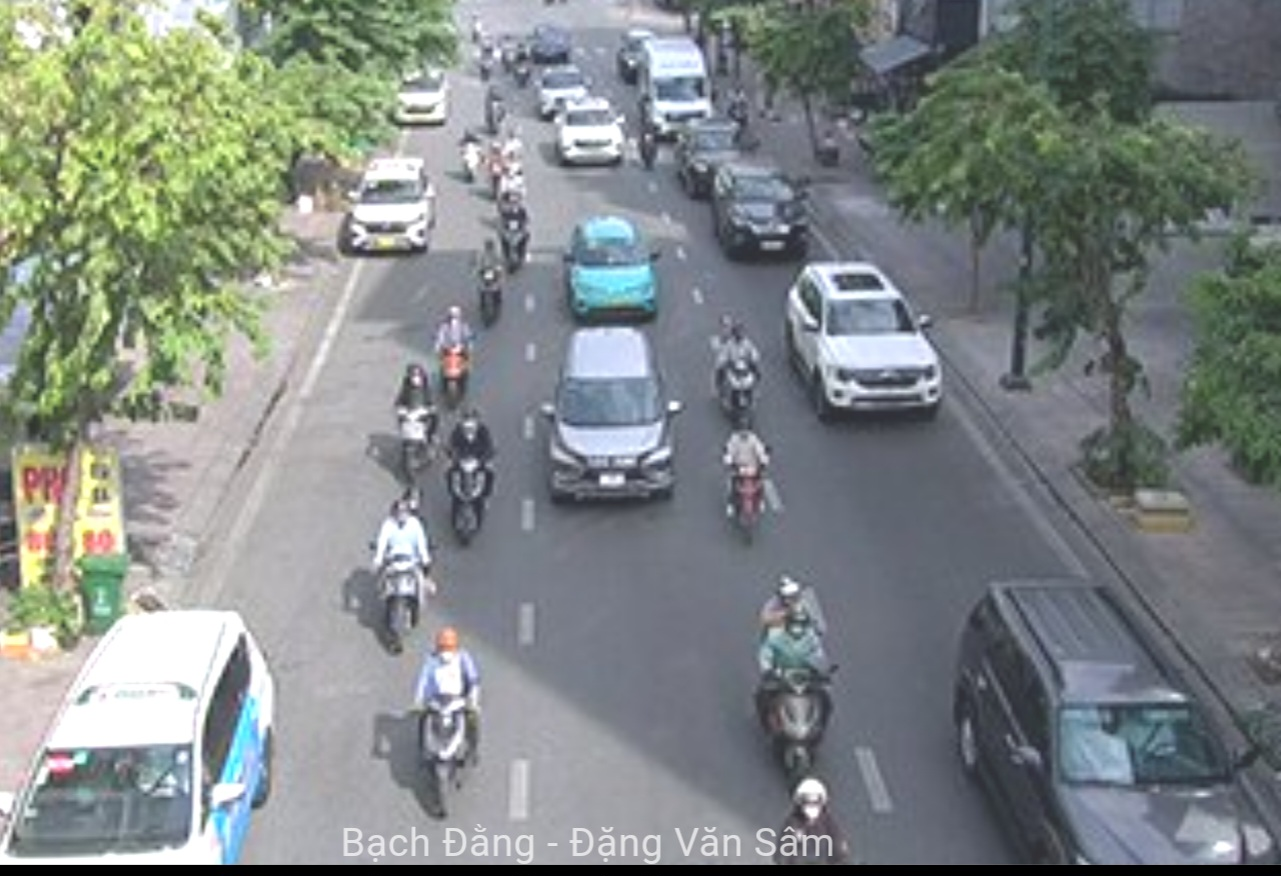car: (959, 582, 1275, 876), (9, 607, 280, 875), (783, 268, 946, 419), (546, 326, 678, 505), (713, 163, 815, 262), (560, 221, 659, 316), (349, 155, 435, 255), (644, 41, 713, 133), (554, 98, 626, 164), (680, 123, 743, 192), (391, 64, 450, 125), (537, 61, 594, 116)
